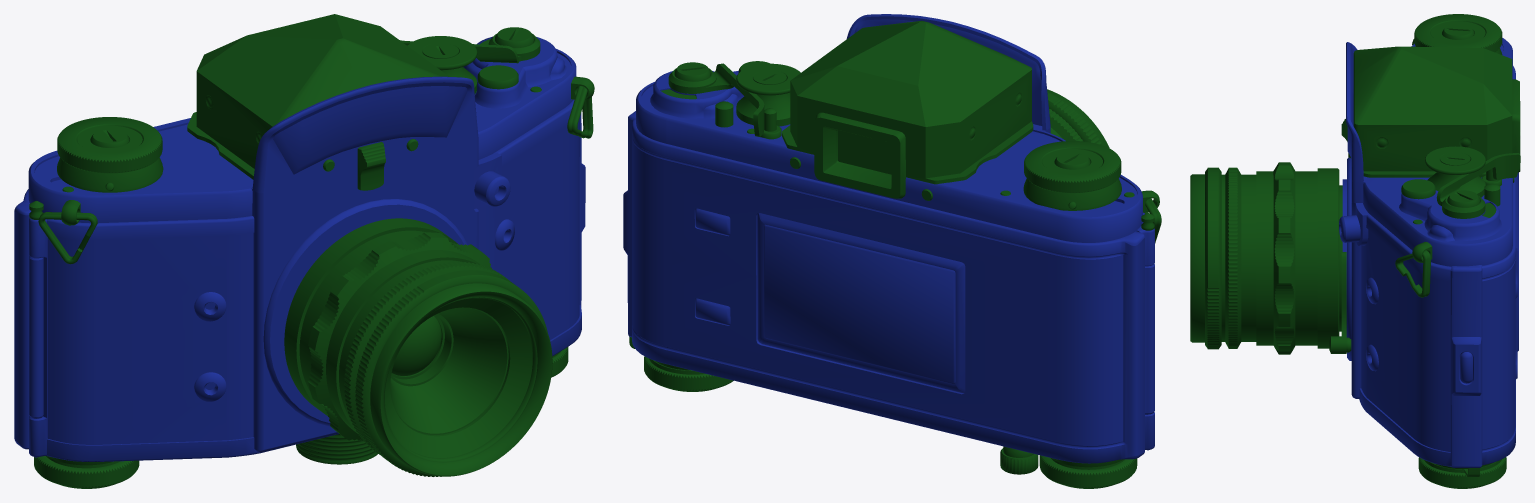
The model's file is Exakta_VX_(Triangulate).fbx.
The picture shows the model from 3 angles, left to right: view 1: azimuth 30°, elevation 25°; view 2: azimuth 150°, elevation 25°; view 3: azimuth 270°, elevation 25°; orthographic projection. The views are drawn at different scales.
Visible parts, largest first — view 1: Exakta_VX; view 2: Exakta_VX; view 3: Exakta_VX.
Boxes of the visible parts, left/top/right/bottom form: Exakta_VX: left=14, top=14, right=594, bottom=488; Exakta_VX: left=623, top=14, right=1161, bottom=488; Exakta_VX: left=1190, top=14, right=1520, bottom=488.
Size of the model in its own units: 15.27 by 10.59 by 9.33.
